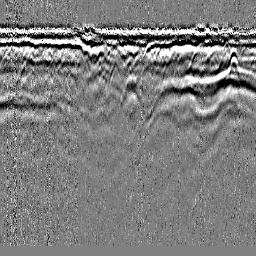cavity: (118, 73, 145, 115)
